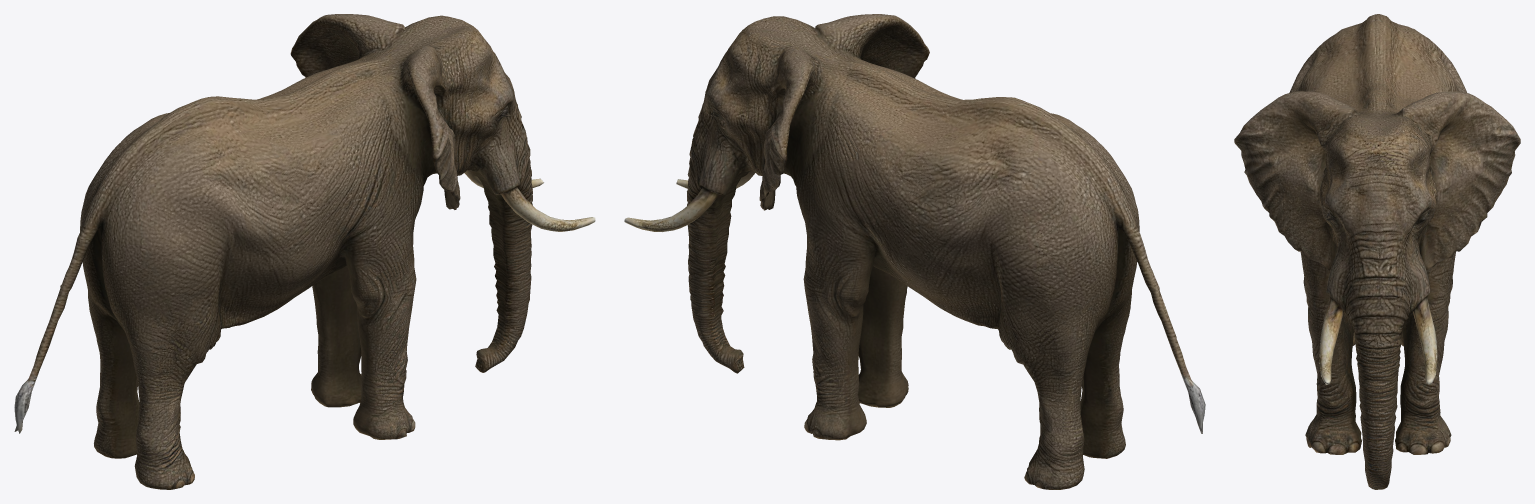
Rendered from elephant.glb.
3 views of the same model, side by side, from view 1: azimuth 30°, elevation 25°; view 2: azimuth 150°, elevation 25°; view 3: azimuth 270°, elevation 25° (orthographic).
Visible parts, largest first — view 1: tripo_node_a6633454-4413-4f81-861a-82104b7daabe; view 2: tripo_node_a6633454-4413-4f81-861a-82104b7daabe; view 3: tripo_node_a6633454-4413-4f81-861a-82104b7daabe.
Boxes of the visible parts, x1,y1,x2,y2 form: tripo_node_a6633454-4413-4f81-861a-82104b7daabe: [14, 14, 595, 489]; tripo_node_a6633454-4413-4f81-861a-82104b7daabe: [624, 14, 1205, 489]; tripo_node_a6633454-4413-4f81-861a-82104b7daabe: [1234, 14, 1520, 489].
Bounding box in the file's own units: 1 × 0.6357 × 0.4565.
Materials: 1 (1 with a texture image).
